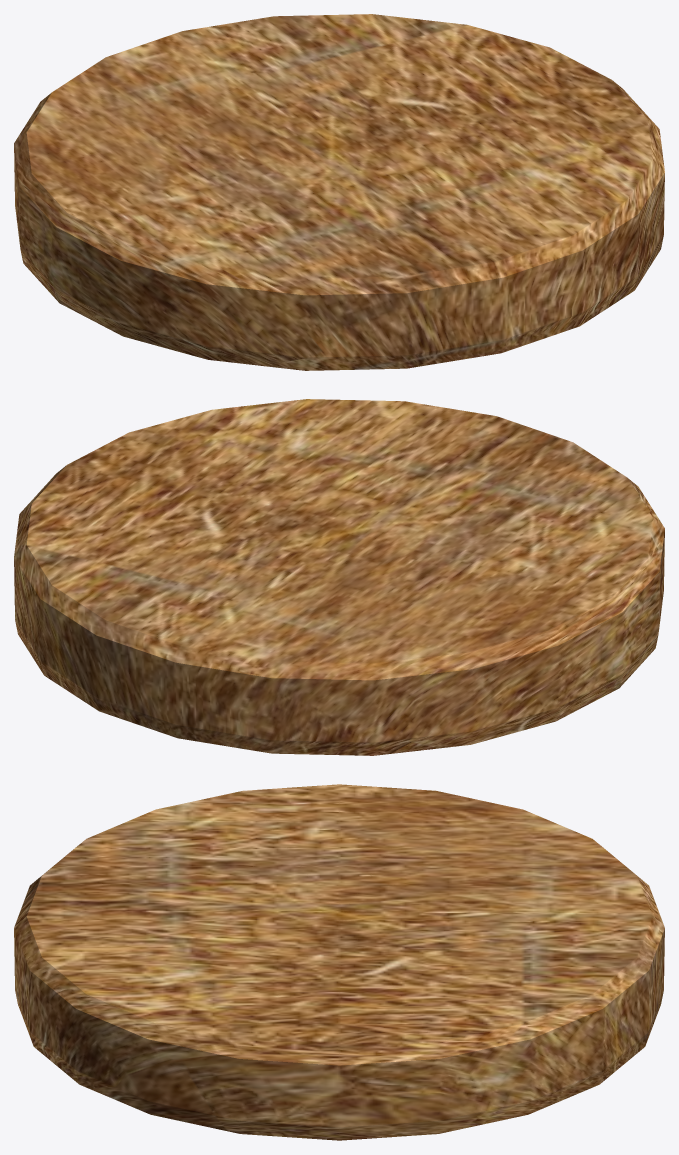
The model's file is BaseCilindro.FBX.
3 views of the same model, one above another, from view 1: azimuth 30°, elevation 25°; view 2: azimuth 150°, elevation 25°; view 3: azimuth 270°, elevation 25° (orthographic).
Parts seen in each view (by area): view 1: baseCIlindro; view 2: baseCIlindro; view 3: baseCIlindro.
Boxes of the visible parts, <box> form: baseCIlindro: <box>14,14,664,370</box>; baseCIlindro: <box>14,399,664,755</box>; baseCIlindro: <box>14,784,664,1140</box>.
Size of the model in its own units: 804 by 120 by 804.
Materials: 1 (1 with a texture image).
